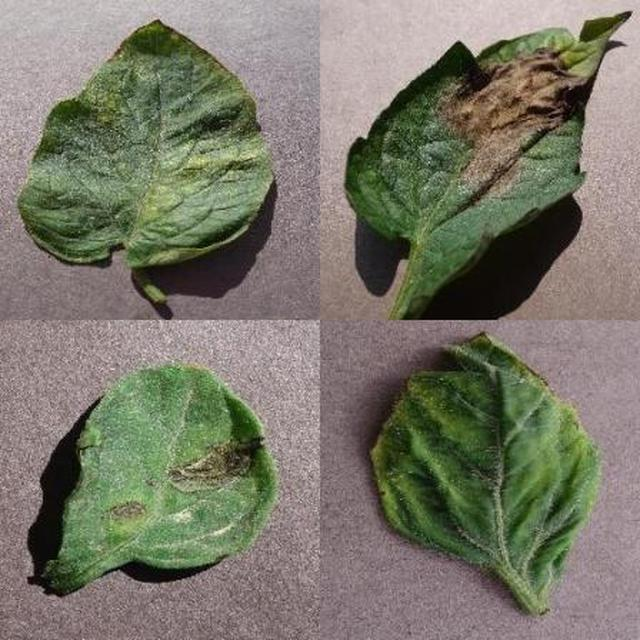Spider Mites Leaf: (209, 206, 640, 640)
